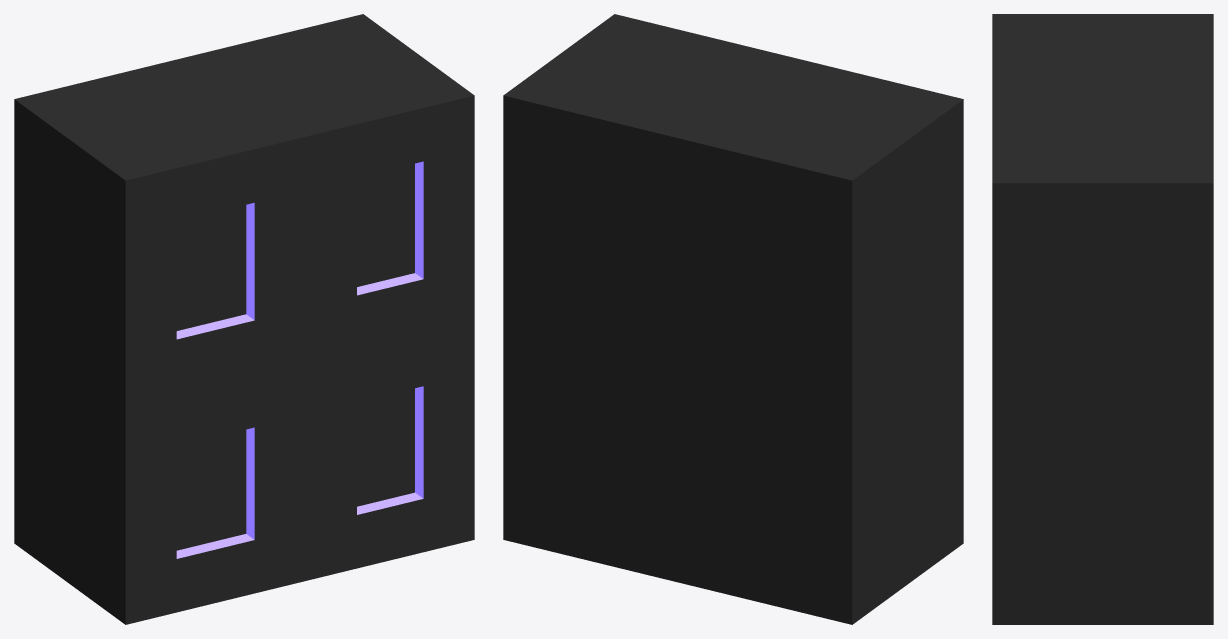
The model's file is Window Building.fbx.
The picture shows the model from 3 angles, left to right: view 1: azimuth 30°, elevation 25°; view 2: azimuth 150°, elevation 25°; view 3: azimuth 270°, elevation 25°; orthographic projection.
Parts seen in each view (by area): view 1: Building_with_windows; view 2: Building_with_windows; view 3: Building_with_windows.
Part boxes in pixels (<box>): Building_with_windows: <box>14,14,474,624</box>; Building_with_windows: <box>503,14,963,624</box>; Building_with_windows: <box>992,14,1213,624</box>.
Size of the model in its own units: 9462 by 11511 by 5229.
